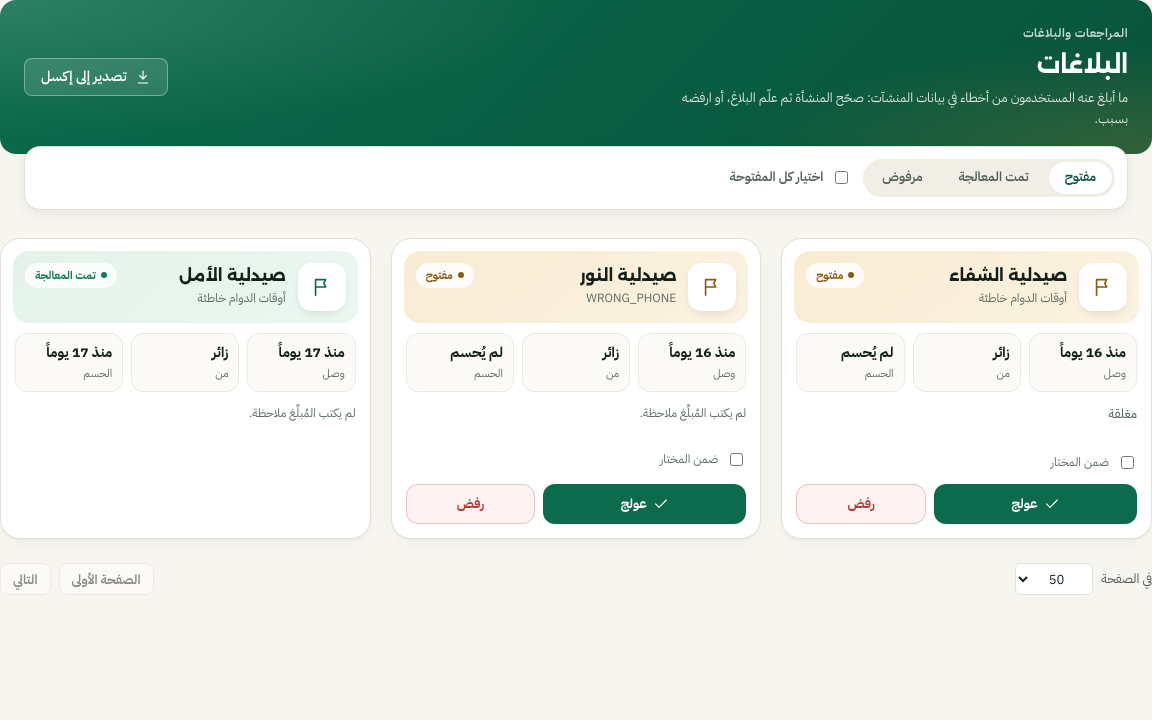
Test: deciding many reports at once › reports what the backend decided, not what was asked
expect the link "صيدلية الشفاء" is shown: met, box [949, 266, 1067, 285]
What coordinates should you click on to do the following:
click the checkbox with test id "select-all"
I would click on:
 (842, 178)
Its box is [835, 171, 848, 184].
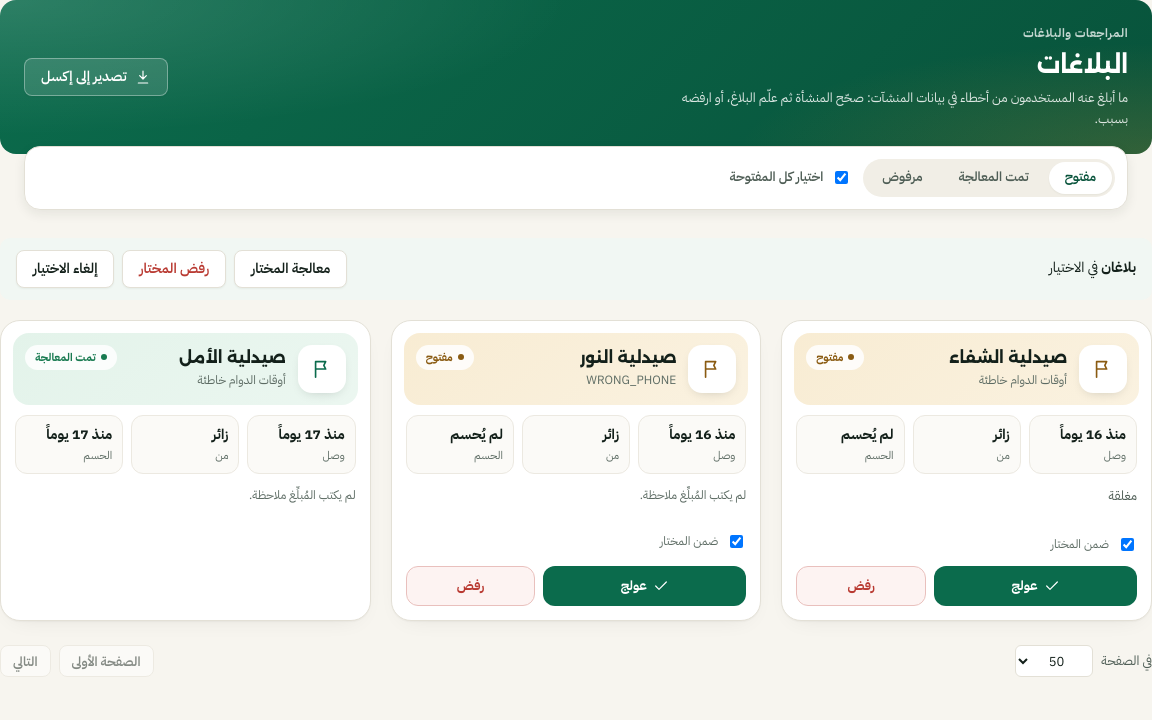
What coordinates should you click on to do the following:
click the button with test id "bulk-dismiss"
I would click on:
 (174, 269)
Its box is [122, 250, 226, 288].
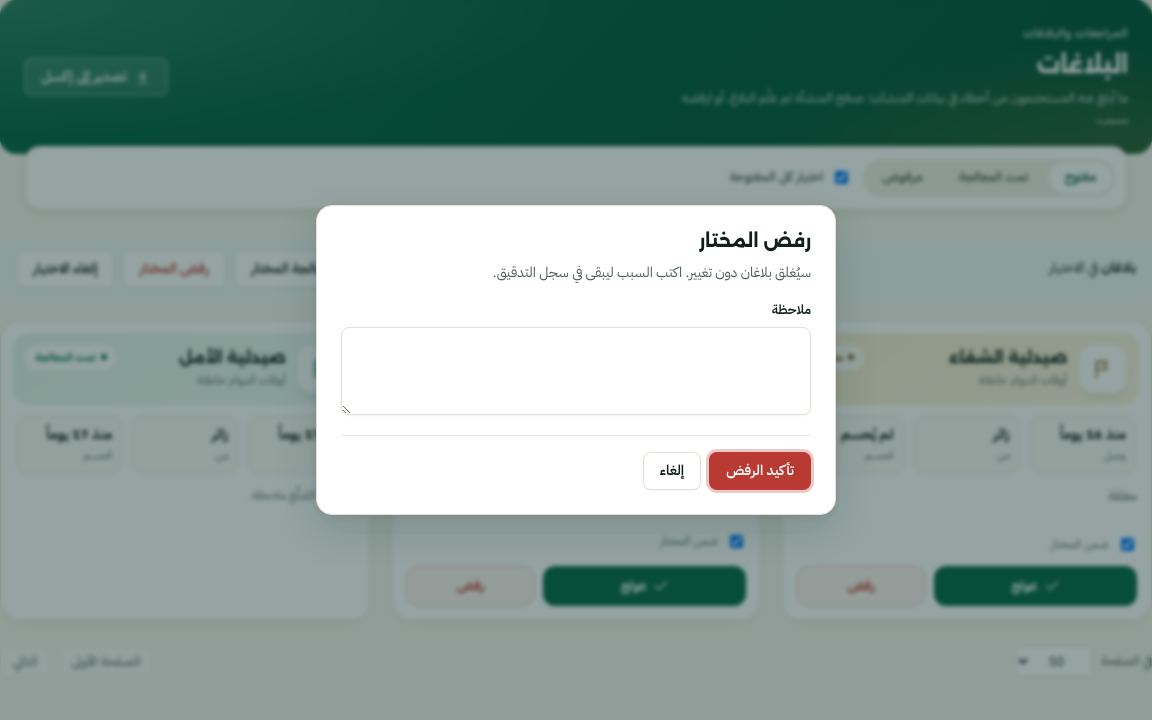
What coordinates should you click on to do the following:
click the button "تأكيد الرفض"
I would click on:
 (760, 471)
Its box is [709, 452, 811, 490].
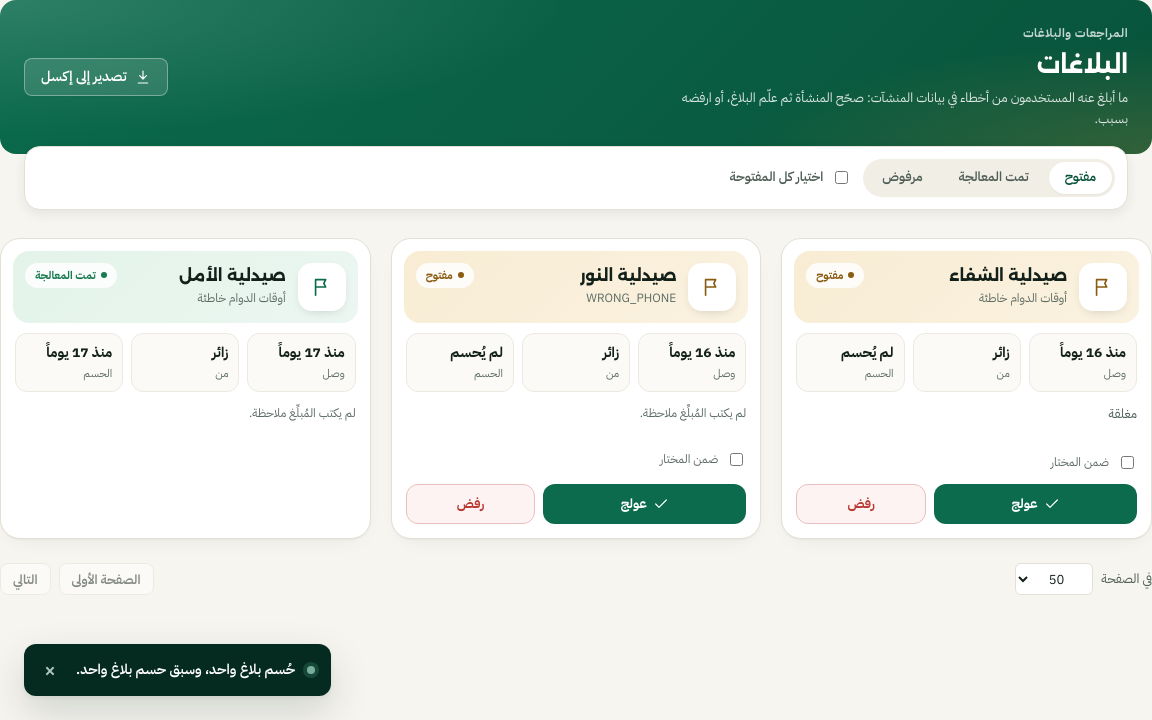
expect the text "حُسم بلاغ واحد، وسبق حسم بلاغ واحد." is shown: met, box [76, 659, 295, 681]
